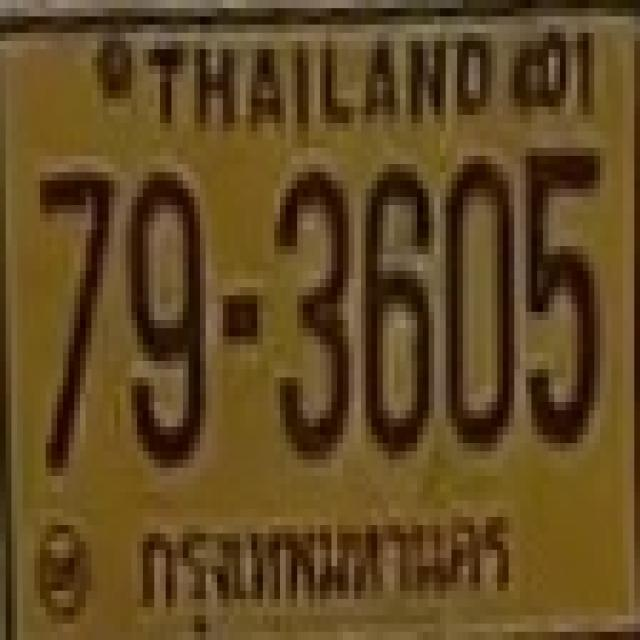0: (443, 156, 511, 443)
3: (271, 164, 346, 451)
5: (523, 144, 597, 439)
6: (360, 164, 429, 451)
7: (34, 164, 109, 460)
9: (126, 164, 200, 460)
BKK: (136, 502, 528, 637)
